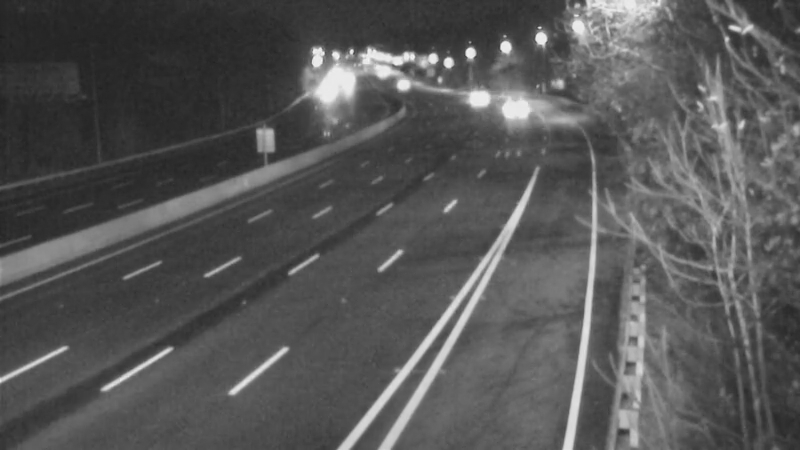vehicle: (377, 58, 427, 108), (448, 74, 498, 124), (481, 86, 531, 136)
